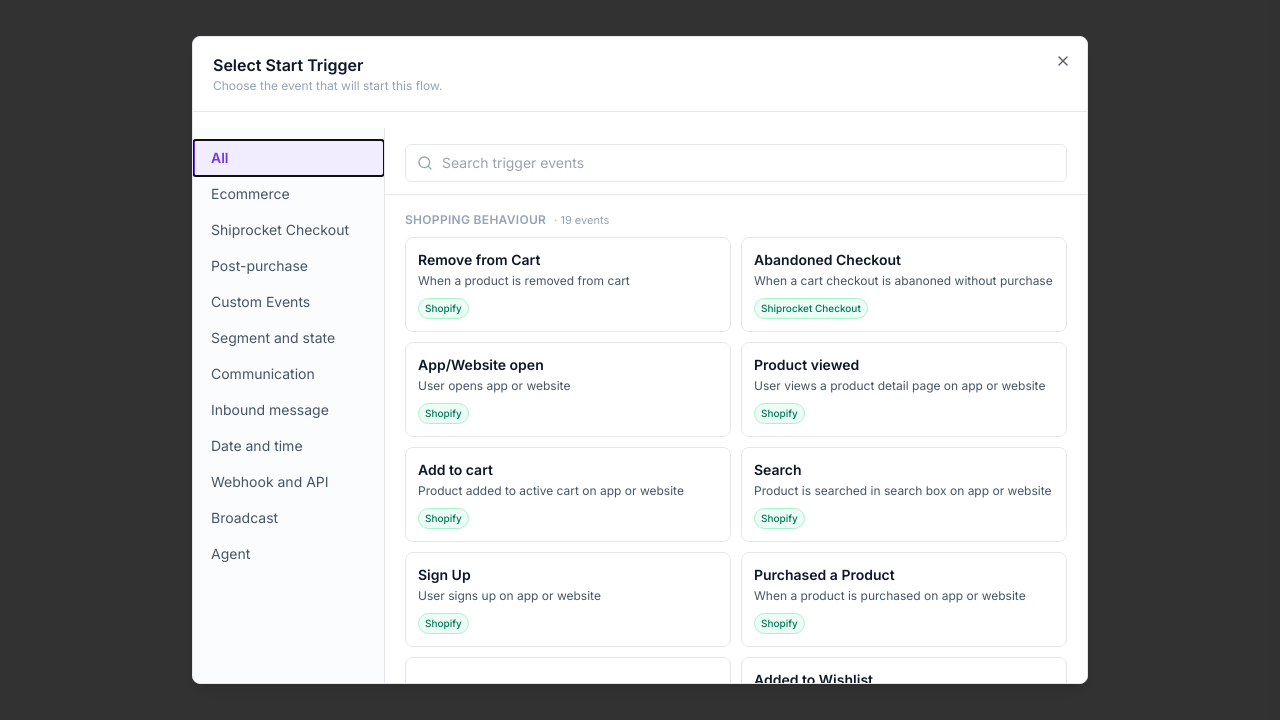
Test: StartTriggerWizard — Date and time section › routes user-attribute date cards to DateRelativeTriggerContent, not the attribute-condition builder
Click the button with test id "event-picker-header-Date and time".
click(288, 446)  # box left=193, top=428, right=384, bottom=464
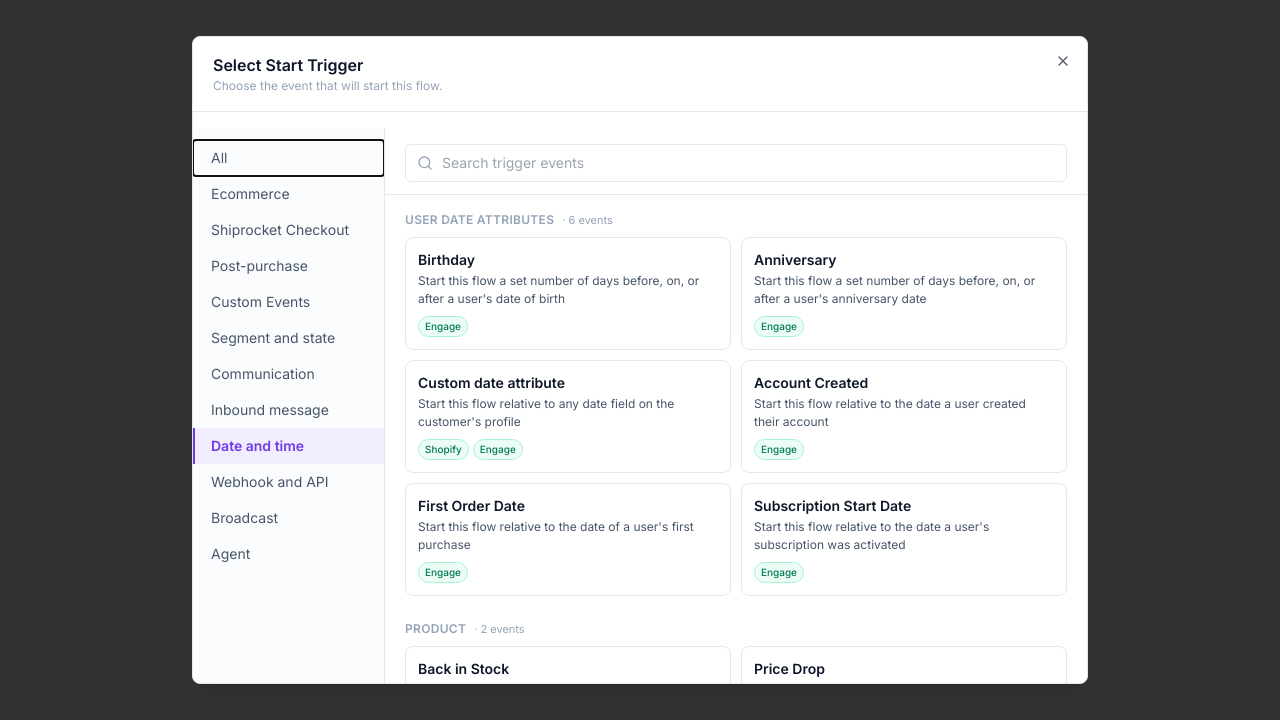
Click the button that starts with "Birthday".
click(568, 294)  # box left=405, top=237, right=731, bottom=350
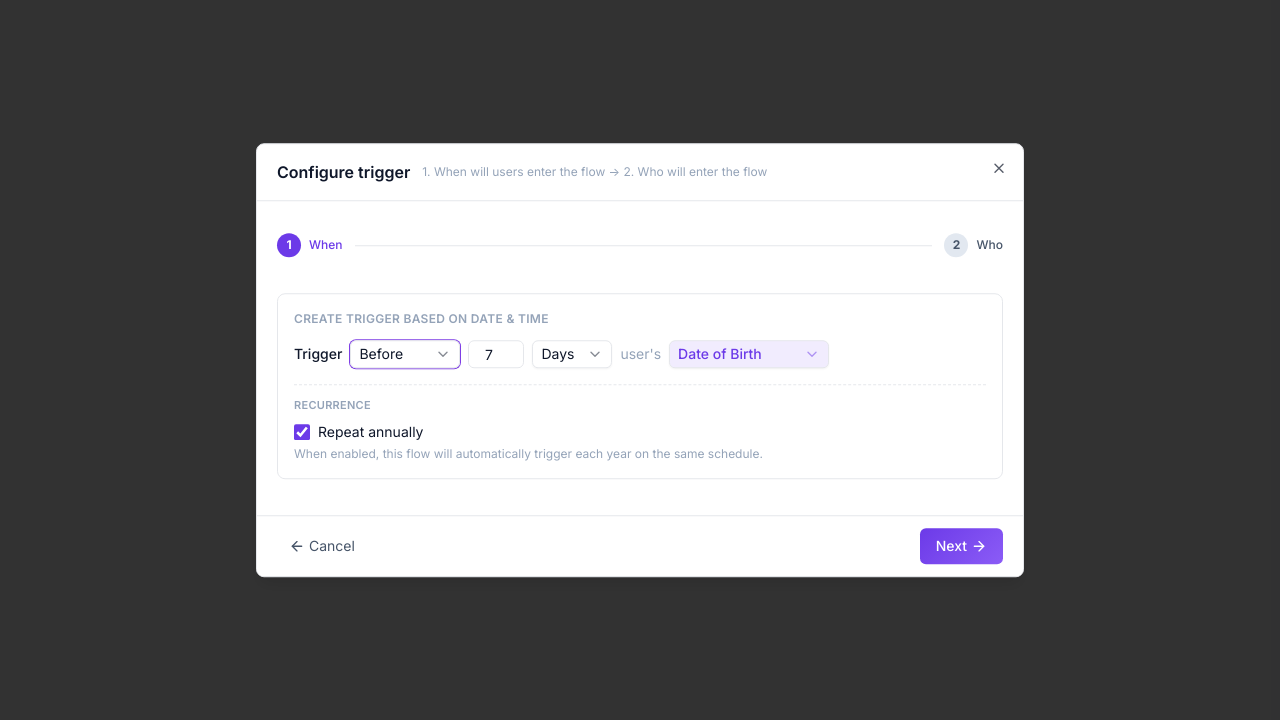
Result: the button with test id "trigger-wizard-back" is shown at left=277, top=528, right=367, bottom=564
